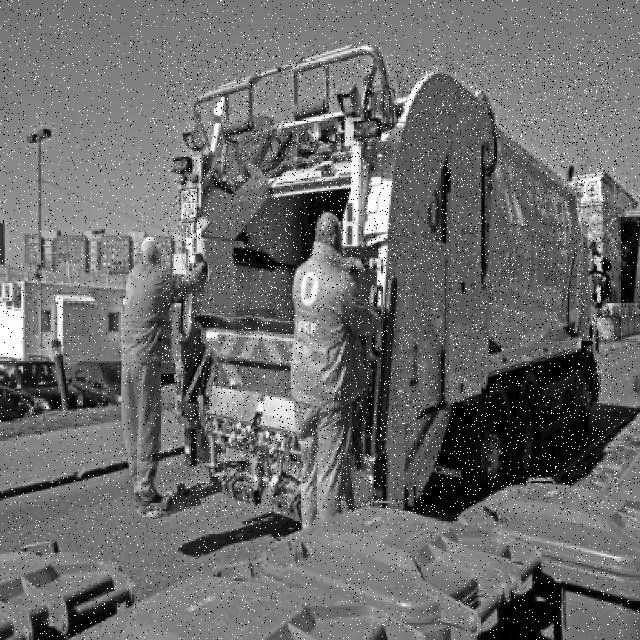Garbage Truck: (162, 46, 618, 514)
